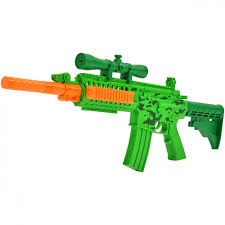Arma Falsa: (1, 52, 225, 174)
